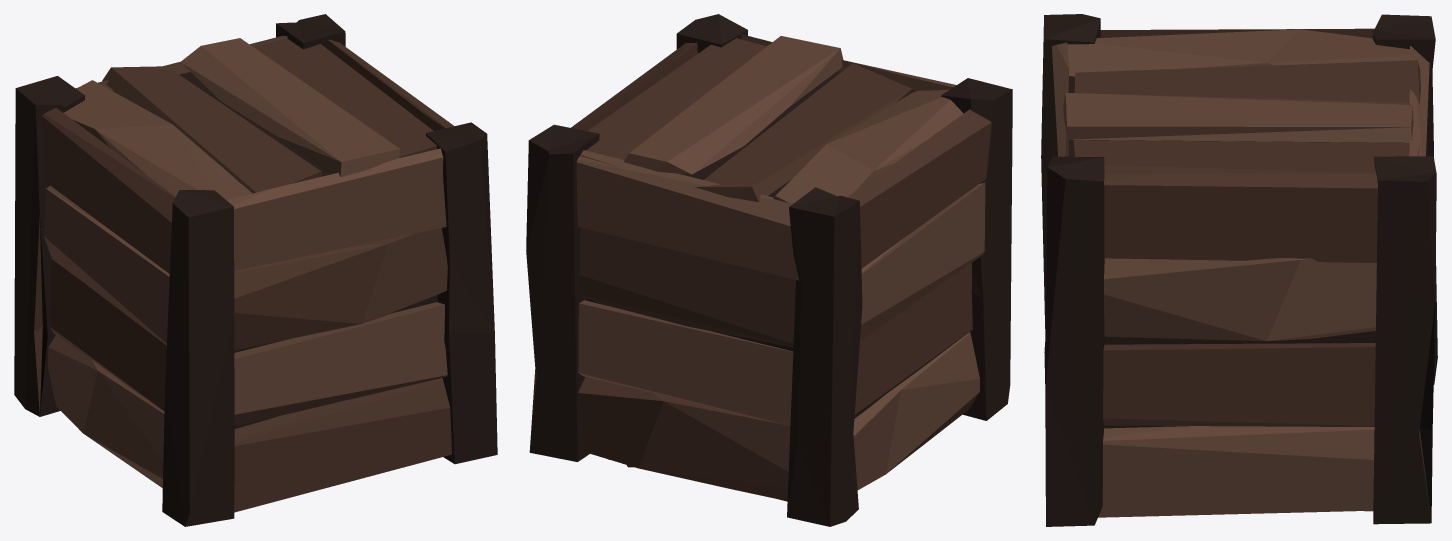
Rendered from Crate_01.glb.
3 renders of one model, left to right at view 1: azimuth 30°, elevation 25°; view 2: azimuth 150°, elevation 25°; view 3: azimuth 270°, elevation 25°, orthographic. The views are drawn at different scales.
Visible parts, largest first — view 1: Crate_01; view 2: Crate_01; view 3: Crate_01.
Part boxes in pixels (left/top/right/bottom): Crate_01: left=14, top=14, right=497, bottom=526; Crate_01: left=526, top=14, right=1012, bottom=526; Crate_01: left=1041, top=14, right=1437, bottom=526.
Size of what is drawn, in the model's own units: 0.7471 by 0.7391 by 0.7486.
Materials: 1 (1 with a texture image).
